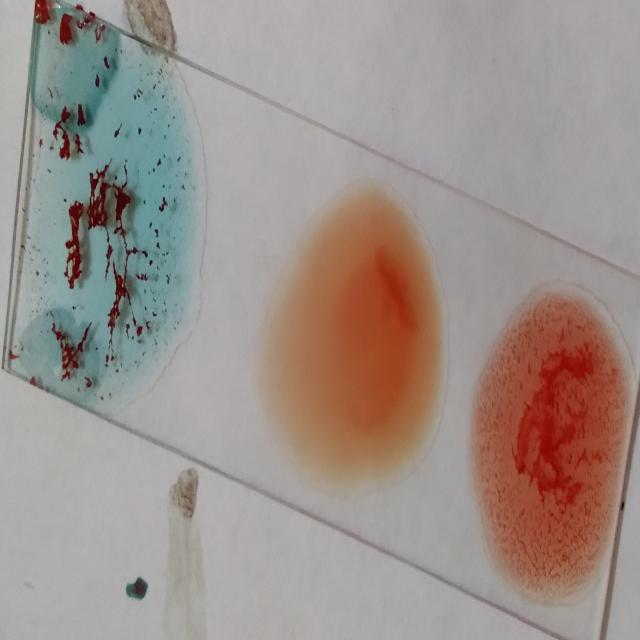A: (29, 51, 190, 395)
D: (481, 281, 614, 584)
